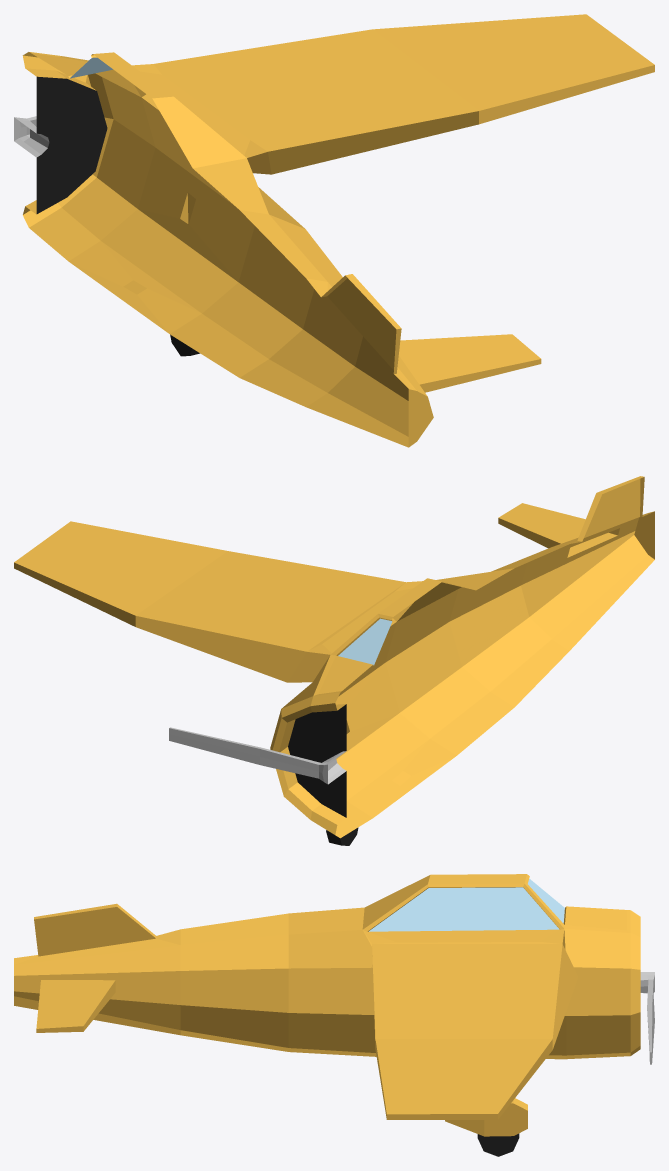
3 renders of one model, top to bottom at view 1: azimuth 30°, elevation 25°; view 2: azimuth 150°, elevation 25°; view 3: azimuth 270°, elevation 25°, orthographic. The views are drawn at different scales.
Parts seen in each view (by area): view 1: Cube; view 2: Cube; view 3: Cube.
Boxes of the visible parts, <box> form: Cube: <box>14,14,654,447</box>; Cube: <box>14,476,654,845</box>; Cube: <box>14,874,654,1156</box>.
Size of the model in its own units: 11.51 by 7.08 by 16.54.
Materials: 1 (1 with a texture image).
